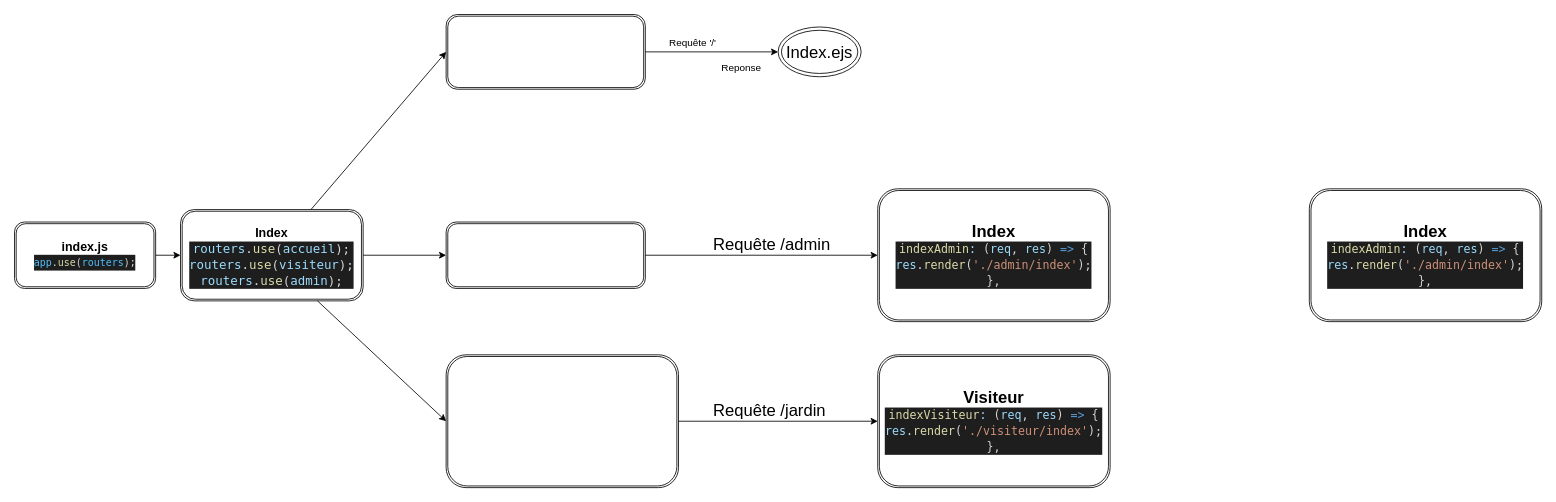
This 1556x502 diagram has some shape labels left out. The centre of each missing label's shape, as x and y in pixels:
"Accueil router . get ( '/' , ( req , res ) => { res . render ( 'index' ); });" belongs at point (545, 51).
"Admin router . get ( '/admin' , adminController . indexAdmin );" belongs at point (545, 254).
"Visiteur router . get ( '/jardin' , visiteurController . indexVisiteur );" belongs at point (562, 421).
